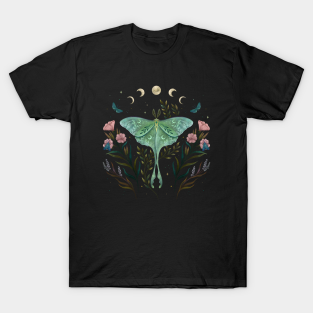design: (101, 84, 213, 200)
